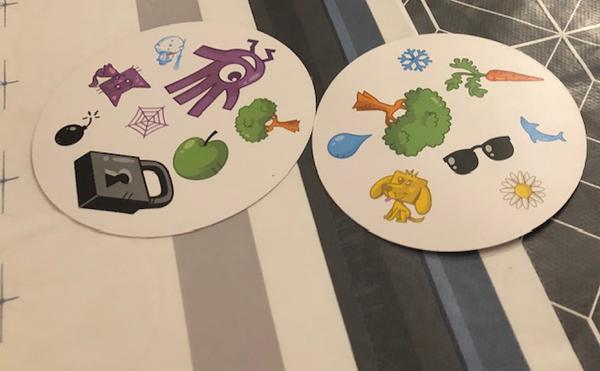arbre: (344, 84, 459, 157), (234, 95, 304, 144)
bombe: (47, 108, 101, 147)
cadenas: (68, 147, 180, 214)
chat: (84, 57, 154, 108)
chien: (360, 163, 437, 227)
dauphin: (513, 115, 572, 146)
dooble: (157, 33, 282, 116)
fleur: (495, 169, 548, 209)
flocon: (391, 45, 435, 74)
goutte: (321, 128, 372, 161)
lunette: (438, 134, 519, 175)
pomme: (170, 127, 232, 185)
toile: (120, 101, 171, 140)
